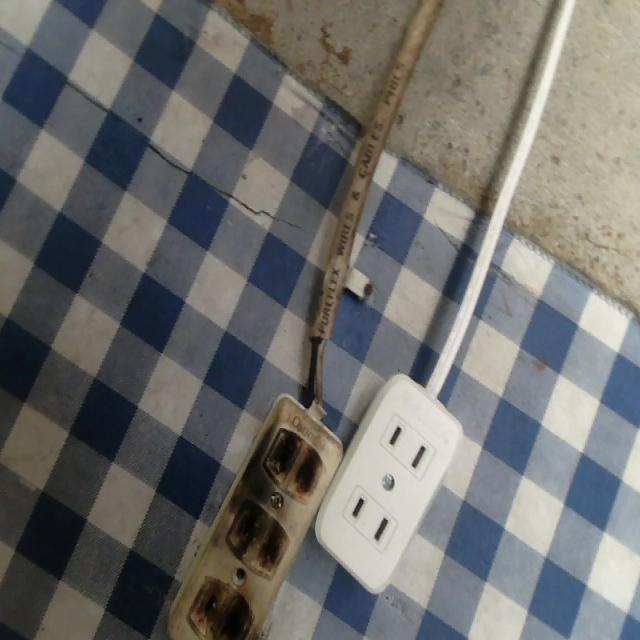-: (226, 496, 292, 579), (185, 570, 259, 638), (260, 422, 323, 494)
